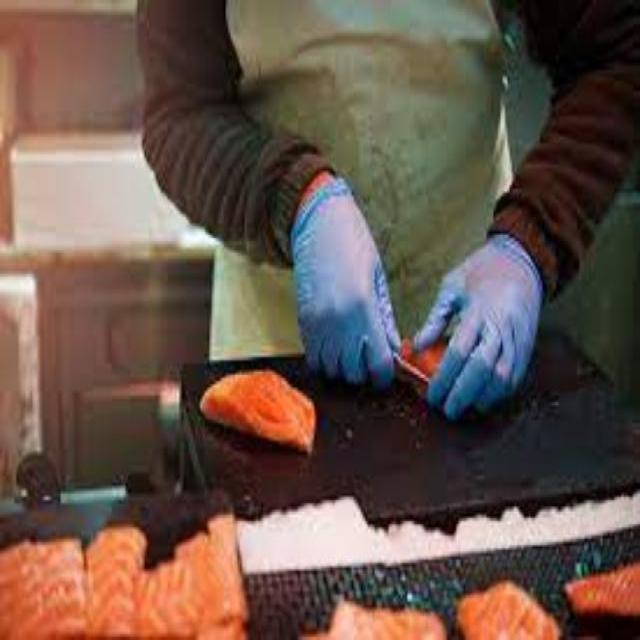gloved_hand: (285, 184, 401, 379), (424, 241, 542, 431)
